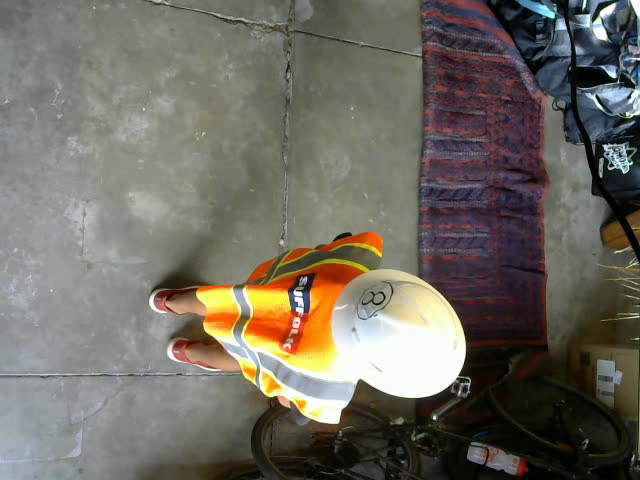eight: (355, 280, 393, 319)
